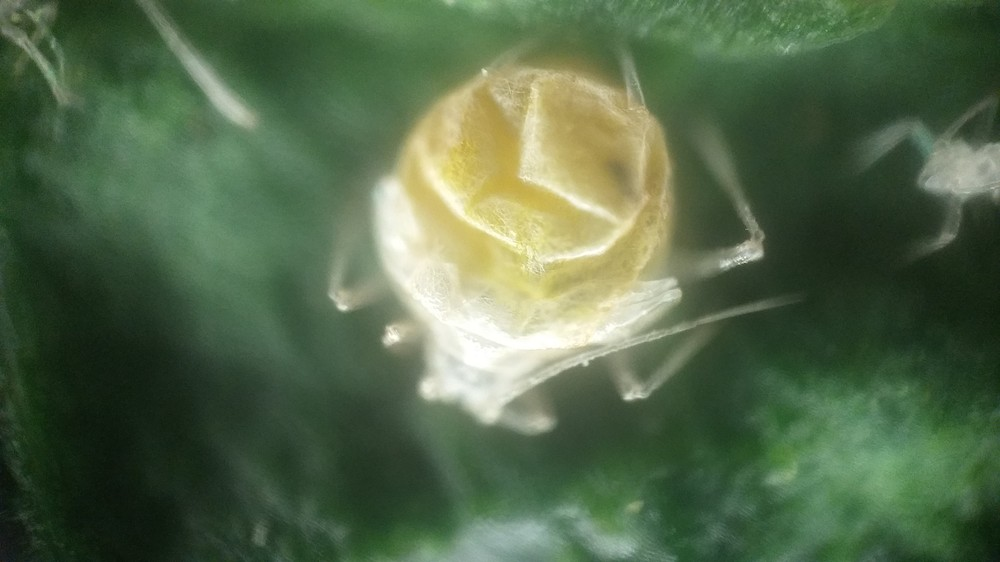Pulgon: (301, 25, 807, 468)
